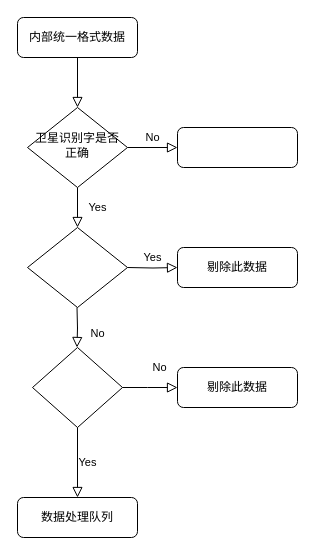
Image size: 315x555. Some labels were removed from this diagram. Each missing label, with the box of its shape:
判断卫星星时与当前时间绝对值是否大于5分: (26, 226, 128, 308)
判断帧计数是否连续: (32, 346, 122, 428)
剔除此帧数据: (176, 126, 298, 168)
